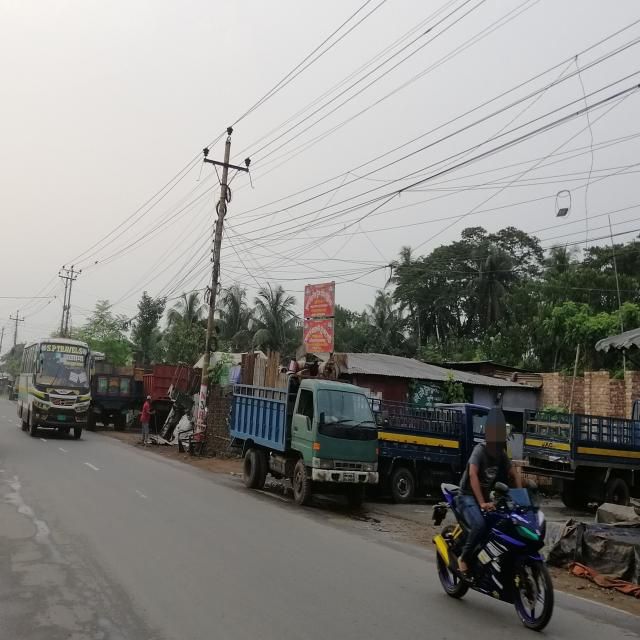Bus: (14, 333, 99, 442)
Motorbike: (431, 478, 559, 634)
Pick-up-van: (230, 369, 386, 511)
